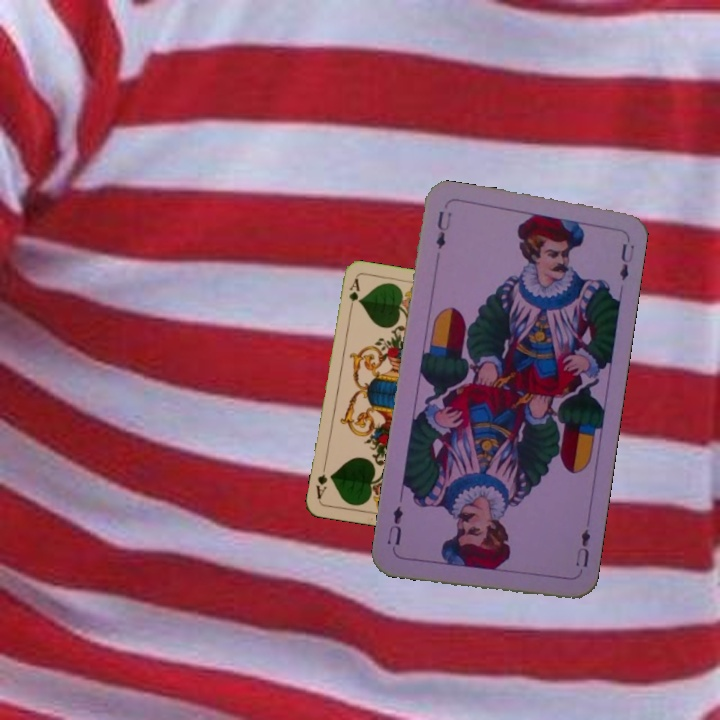EU: (432, 207, 454, 252), (571, 525, 593, 569)
GA: (345, 275, 362, 315)
